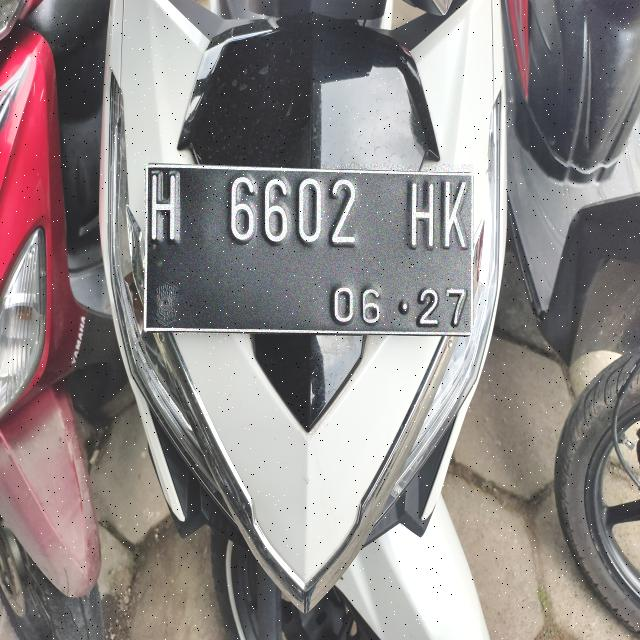plate: (145, 165, 472, 334)
